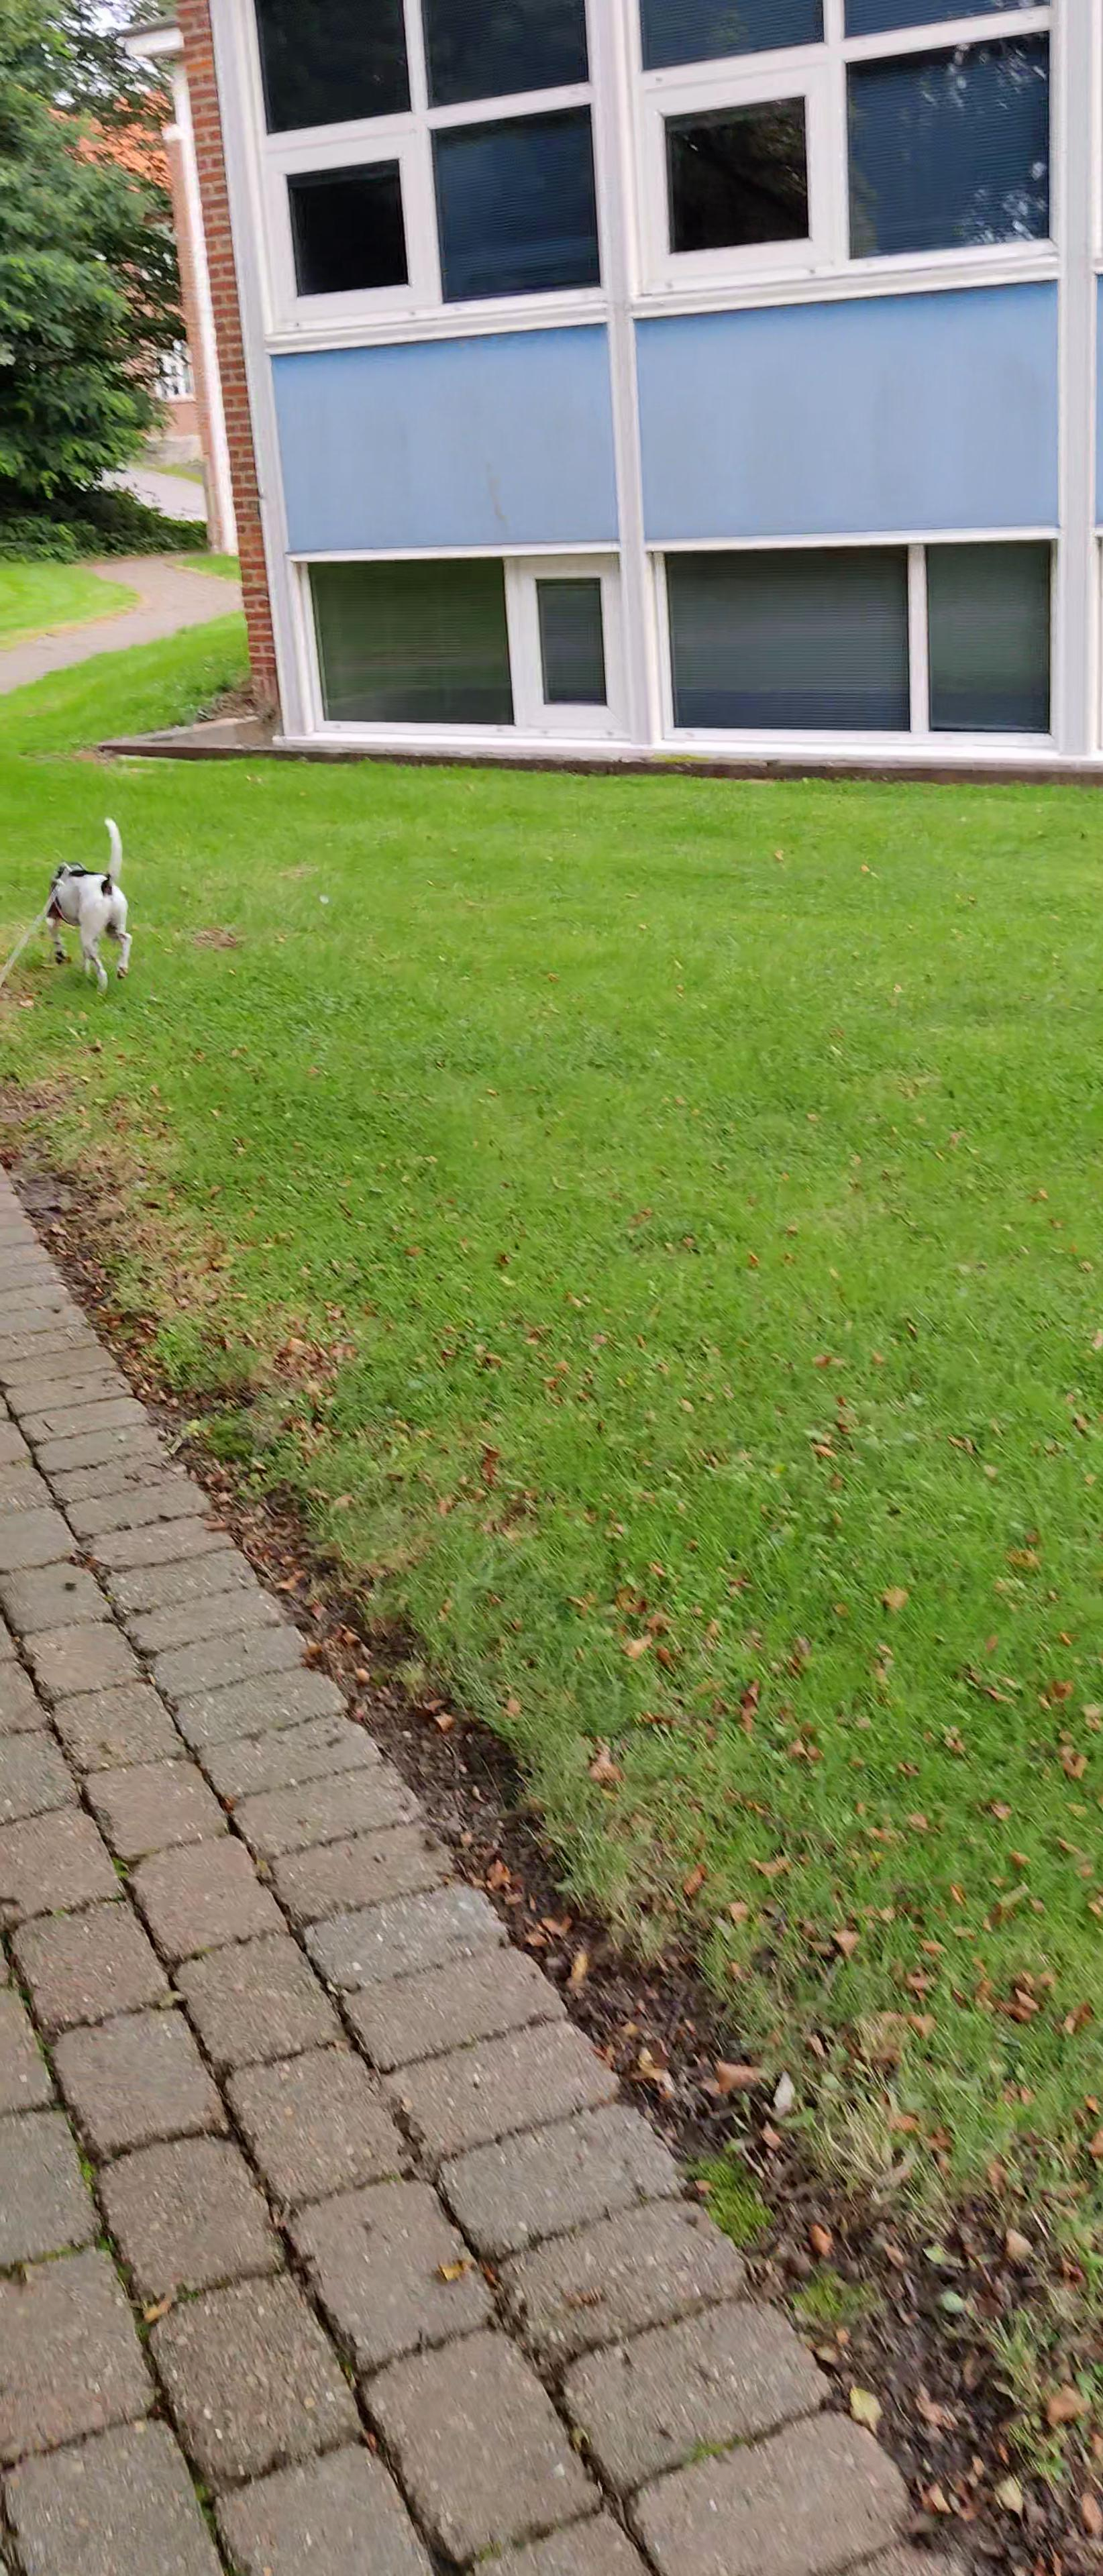Dog: (39, 808, 135, 999)
